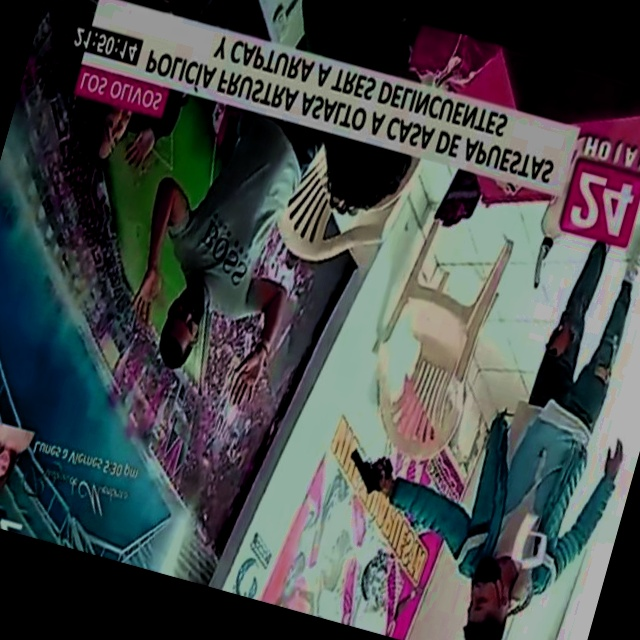gun: (322, 420, 408, 524)
